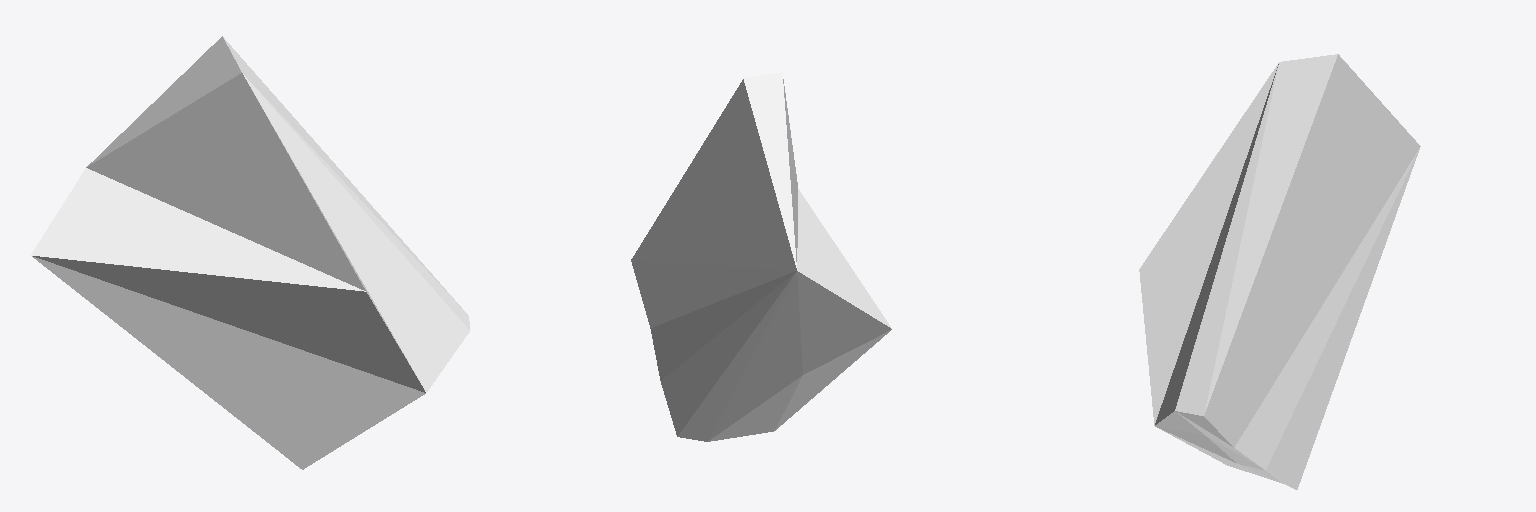
The model's file is piece2.obj.
The picture shows the model from 3 angles: view 1: azimuth 30°, elevation 25°; view 2: azimuth 150°, elevation 25°; view 3: azimuth 270°, elevation 25°; orthographic projection.
Visible parts, largest first — view 1: mesh0055; view 2: mesh0055; view 3: mesh0055.
Part boxes in pixels (bbox=[...]): mesh0055: bbox=[31, 36, 469, 469]; mesh0055: bbox=[631, 72, 891, 441]; mesh0055: bbox=[1139, 54, 1420, 489].
Size of the model in its own units: 0.744 by 0.8112 by 0.5181.